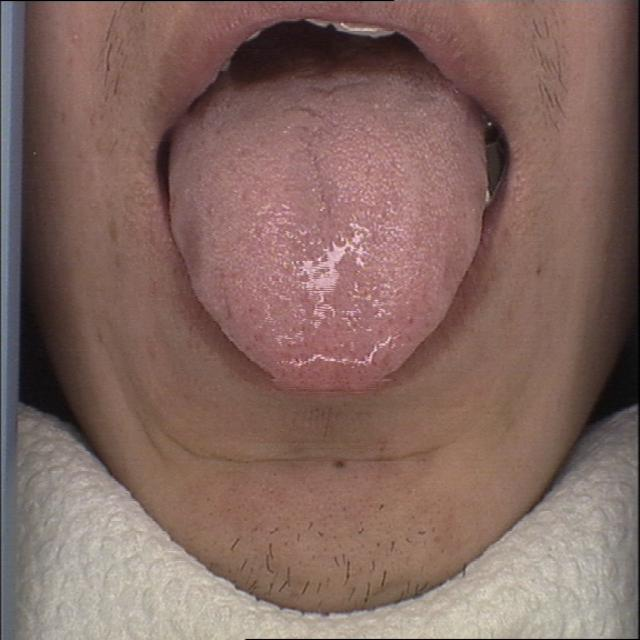tongue: (160, 63, 496, 407)
